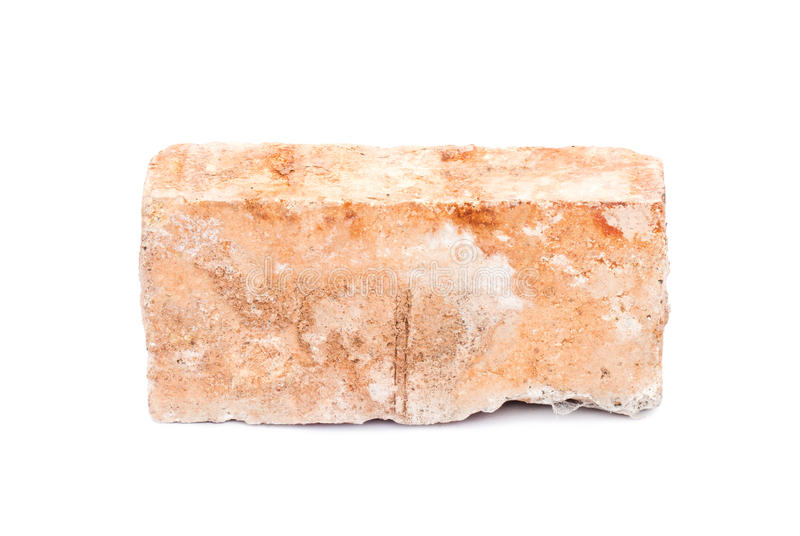brick: (150, 143, 661, 419)
